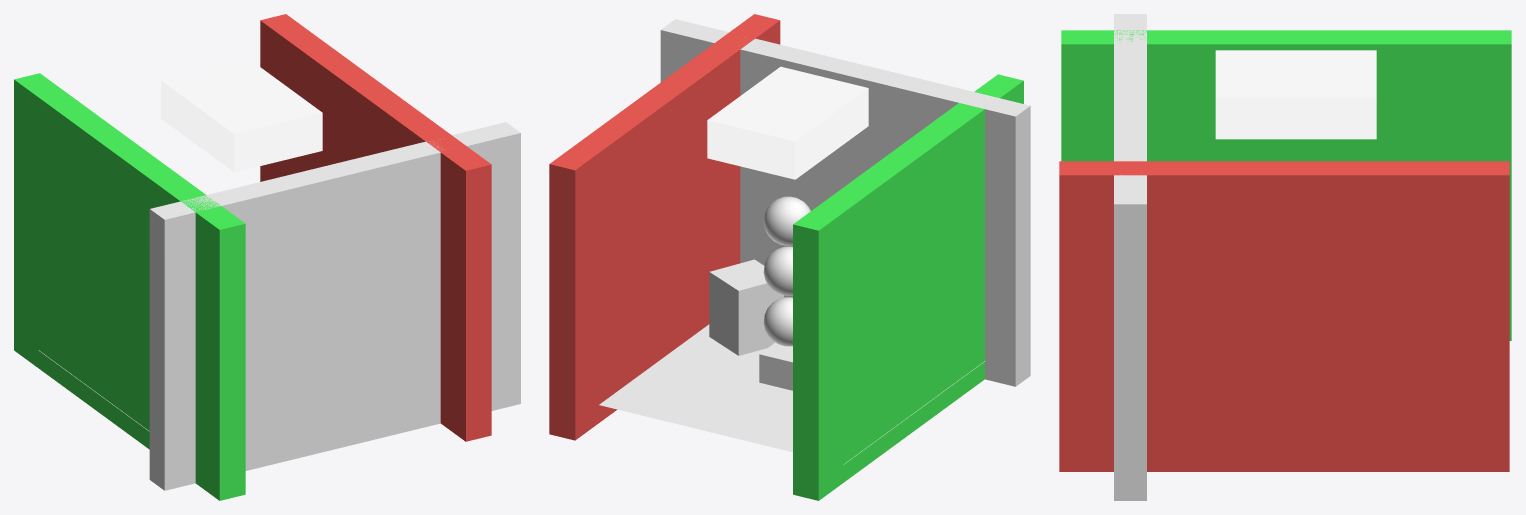
The model's file is gibox3.gltf.
3 views of the same model, side by side, from view 1: azimuth 30°, elevation 25°; view 2: azimuth 150°, elevation 25°; view 3: azimuth 270°, elevation 25° (orthographic). The views are drawn at different scales.
Parts seen in each view (by area): view 1: Cube.006; view 2: Cube.006, Icosphere.002, Icosphere.001, Icosphere; view 3: Cube.006.
Boxes of the visible parts, x1=… form: Cube.006: x1=14, y1=14, x2=520, y2=500; Cube.006: x1=549, y1=14, x2=1030, y2=500; Icosphere.002: x1=763, y1=196, x2=810, y2=245; Icosphere.001: x1=763, y1=297, x2=792, y2=346; Icosphere: x1=763, y1=246, x2=792, y2=295; Cube.006: x1=1059, y1=14, x2=1511, y2=500.
Bounding box in the file's own units: 10.05 × 8.32 × 10.09.
